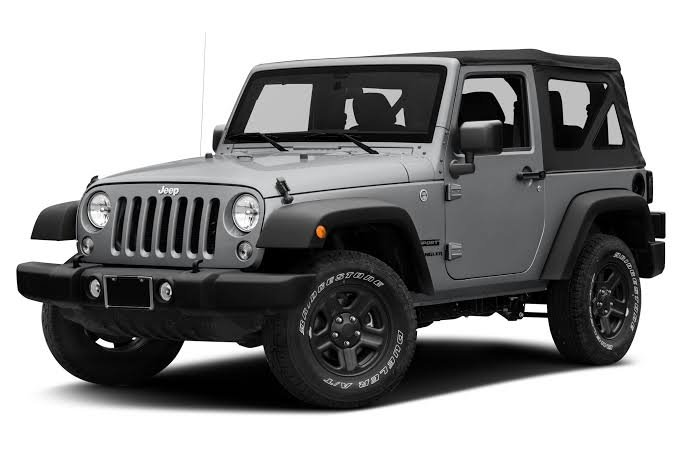mobil: (39, 30, 660, 406)
